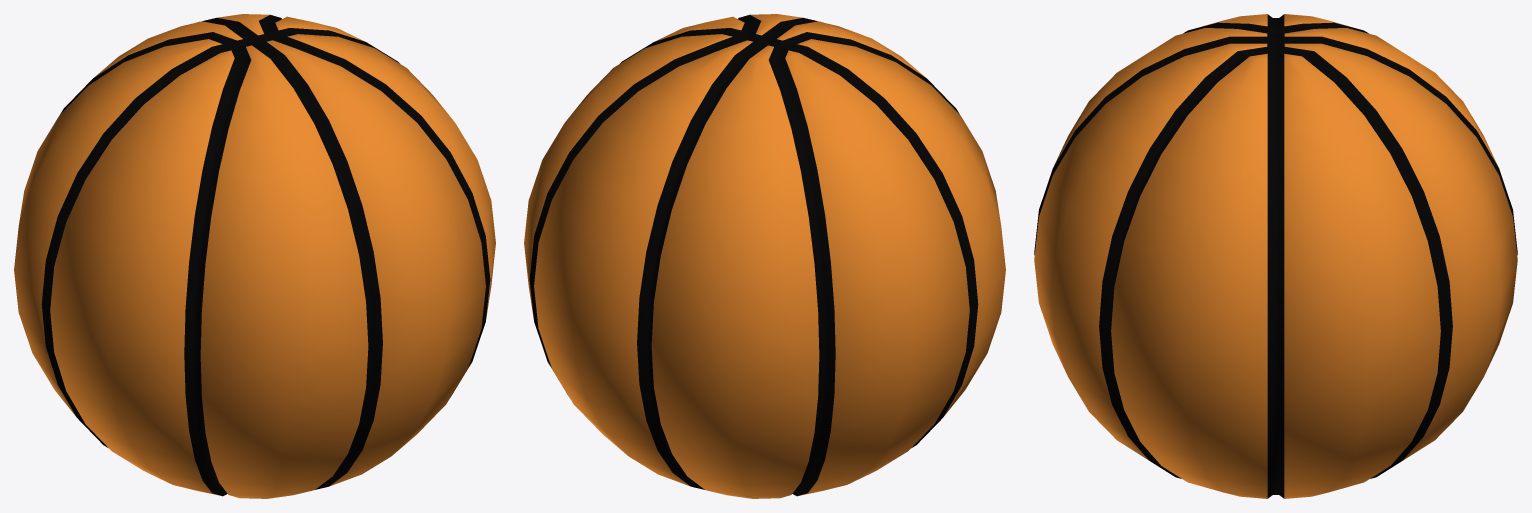
The model's file is Basketball1.glb.
3 renders of one model, left to right at view 1: azimuth 30°, elevation 25°; view 2: azimuth 150°, elevation 25°; view 3: azimuth 270°, elevation 25°, orthographic.
Visible parts, largest first — view 1: Sphere; view 2: Sphere; view 3: Sphere.
Boxes of the visible parts, x1=… form: Sphere: x1=14, y1=14, x2=495, y2=498; Sphere: x1=524, y1=14, x2=1005, y2=498; Sphere: x1=1034, y1=14, x2=1517, y2=498.
Bounding box in the file's own units: 1.99 × 1.96 × 1.99.
